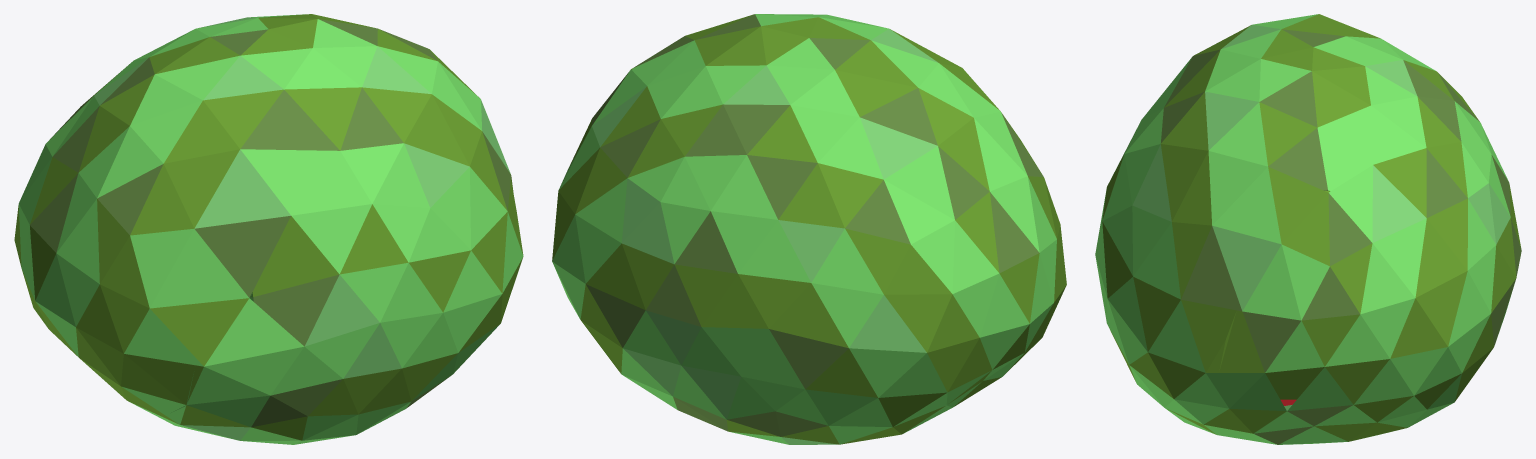
The model's file is melon_s.fbx.
3 renders of one model, left to right at view 1: azimuth 30°, elevation 25°; view 2: azimuth 150°, elevation 25°; view 3: azimuth 270°, elevation 25°, orthographic. The views are drawn at different scales.
Parts seen in each view (by area): view 1: Icosphere.008, Icosphere.006, Icosphere.003, Icosphere.001, Icosphere.009, Icosphere.002, Icosphere.004, Icosphere.007, Icosphere.005; view 2: Icosphere.006, Icosphere.008, Icosphere.003, Icosphere.001, Icosphere.009, Icosphere.002, Icosphere.004, Icosphere.007, Icosphere.005; view 3: Icosphere.007, Icosphere.005, Icosphere.004, Icosphere, Icosphere.001, Icosphere.003, Icosphere.008.
Part boxes in pixels (box(x1,y1,x2,y2)): Icosphere.008: box(98, 40, 325, 443); Icosphere.006: box(51, 69, 260, 435); Icosphere.003: box(165, 20, 384, 444); Icosphere.001: box(227, 15, 433, 436); Icosphere.009: box(14, 116, 195, 415); Icosphere.002: box(15, 175, 140, 385); Icosphere.004: box(296, 14, 474, 413); Icosphere.007: box(378, 28, 509, 370); Icosphere.005: box(429, 49, 523, 314); Icosphere.006: box(818, 68, 1025, 438); Icosphere.008: box(755, 38, 970, 444); Icosphere.003: box(697, 19, 910, 444); Icosphere.001: box(644, 14, 853, 433); Icosphere.009: box(883, 122, 1062, 414); Icosphere.002: box(936, 169, 1066, 387); Icosphere.004: box(601, 14, 787, 413); Icosphere.007: box(564, 24, 721, 375); Icosphere.005: box(552, 67, 634, 309); Icosphere.007: box(1128, 127, 1497, 444); Icosphere.005: box(1166, 190, 1463, 433); Icosphere.004: box(1105, 80, 1515, 444); Icosphere: box(1219, 258, 1401, 399); Icosphere.001: box(1096, 50, 1521, 386); Icosphere.003: box(1095, 28, 1521, 263); Icosphere.008: box(1130, 16, 1484, 141).
Bounding box in the file's own units: 413 × 328 × 347.
